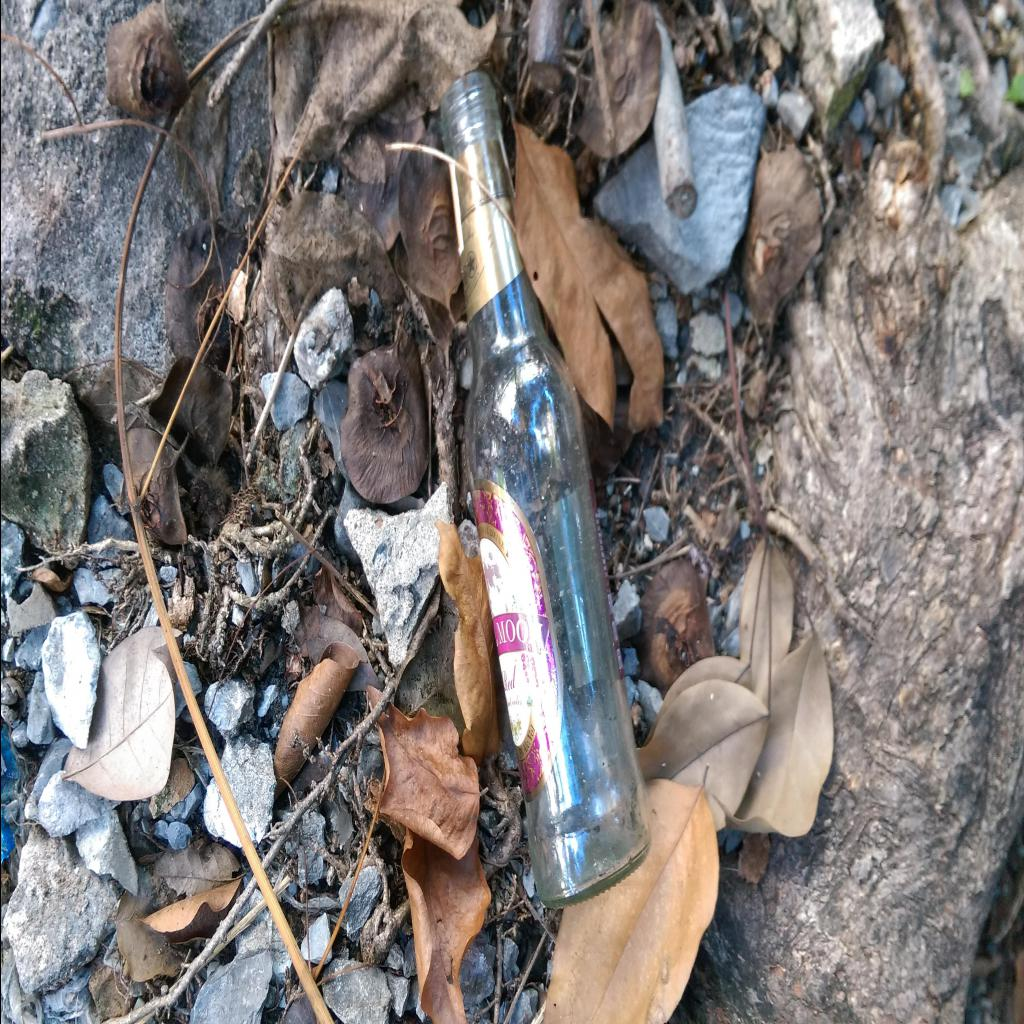Glass bottle: (440, 72, 652, 908)
